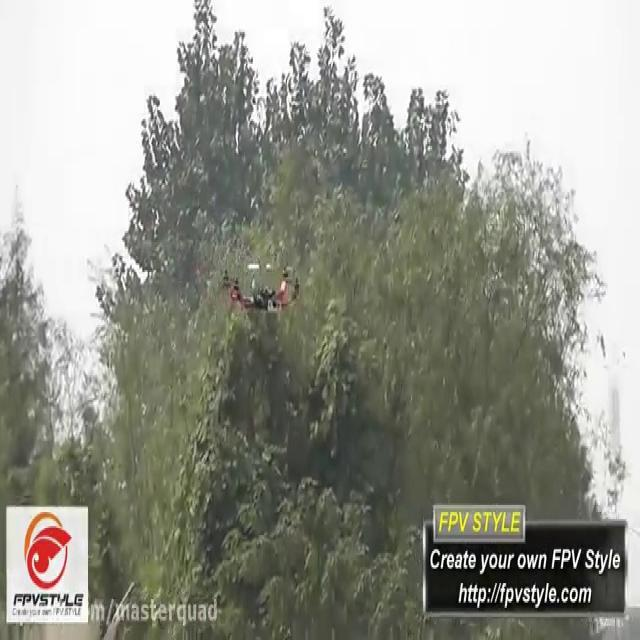drone: (212, 252, 305, 318)
